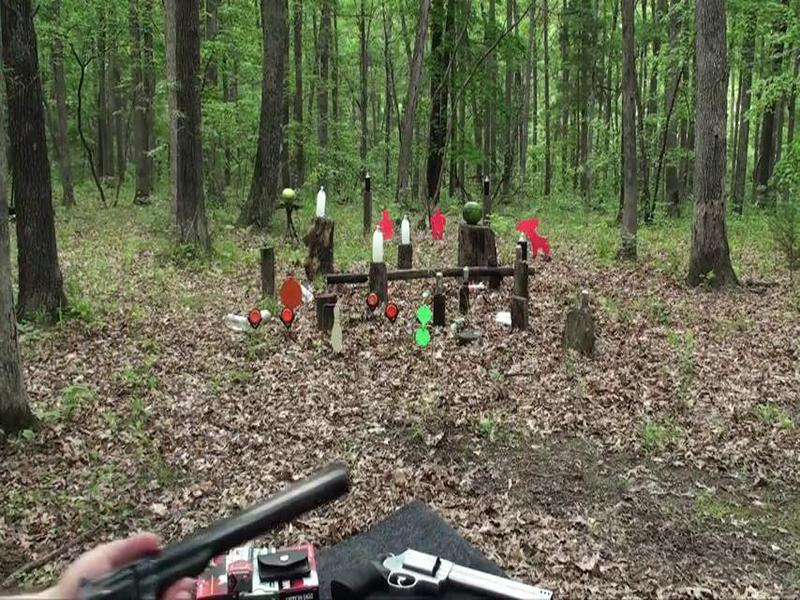Revolver: (31, 449, 395, 600)
